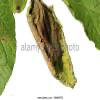Potato leaf early blight: (26, 0, 80, 91), (8, 0, 27, 14)
